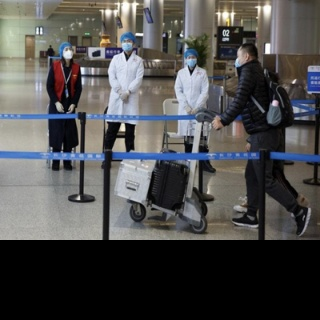with_mask: (233, 51, 244, 68), (62, 46, 73, 60), (122, 38, 133, 52), (187, 54, 197, 68)
